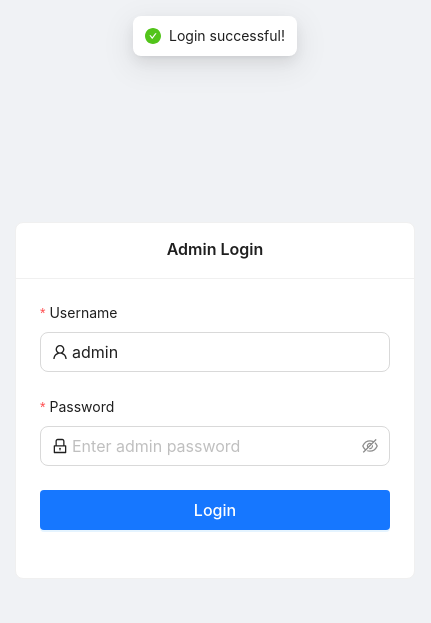
Test: Login › shows an error for wrong credentials
This screenshot has width=431, height=623.
Type "wrong" into the password field labelled "Password" at (215, 446), box [72, 434, 358, 458]
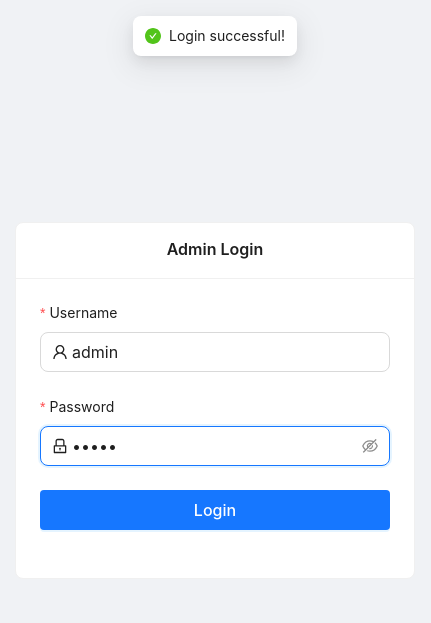
Click the button "Login" at (215, 510), box [40, 490, 390, 530]
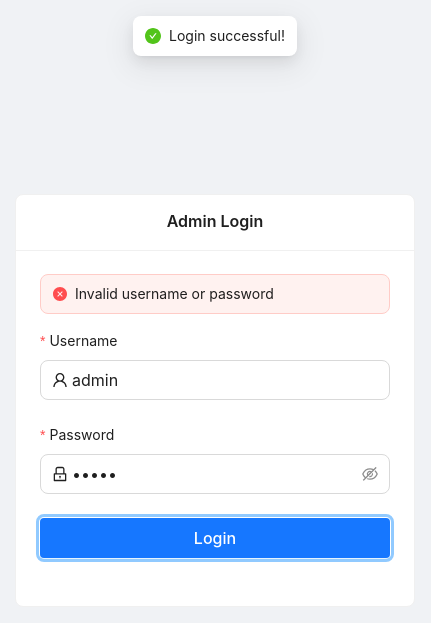
Expected: the text "Invalid username or password" is shown, [75, 284, 274, 302]
